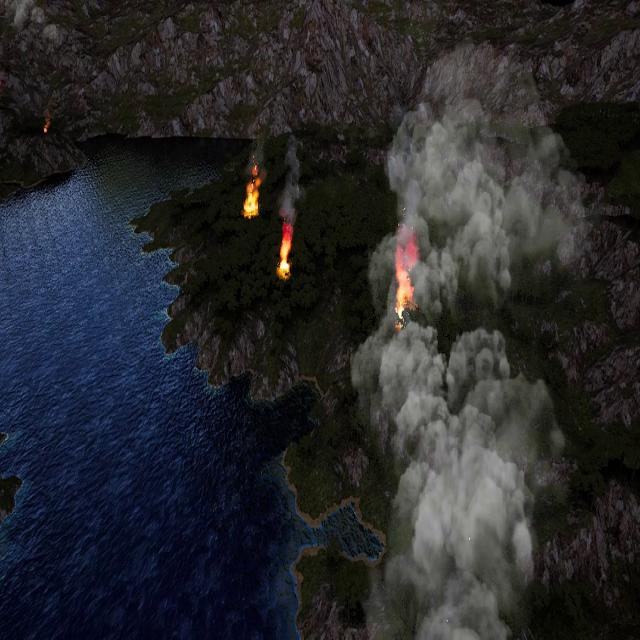fire: (392, 238, 418, 323), (242, 166, 262, 216), (277, 226, 293, 276), (43, 121, 50, 135)
smoke: (347, 174, 576, 640), (365, 92, 590, 313), (280, 134, 304, 224)
